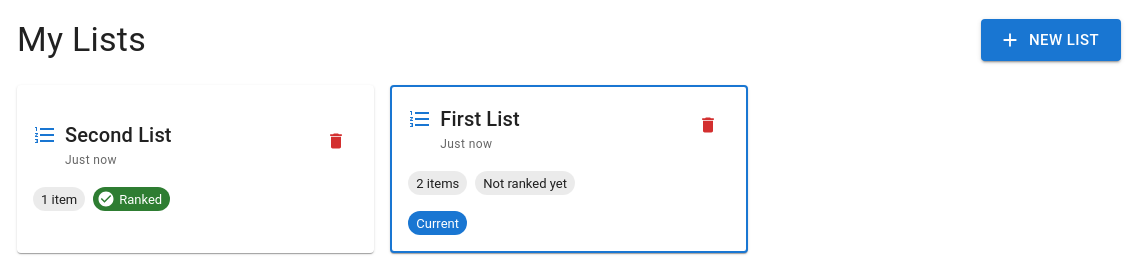
it: MyListsView › Creating Lists › creates new list when New List clicked
Click the button "New List" at {"x": 1051, "y": 40}, box [981,19,1121,61]
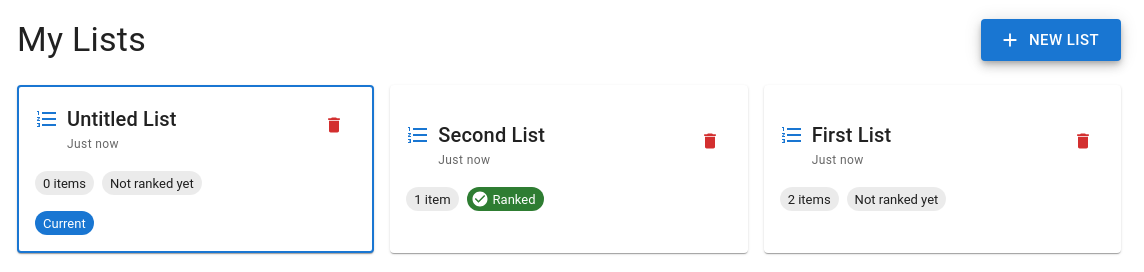
expect the heading "Untitled List" is shown: met, box [67,107,177,131]
